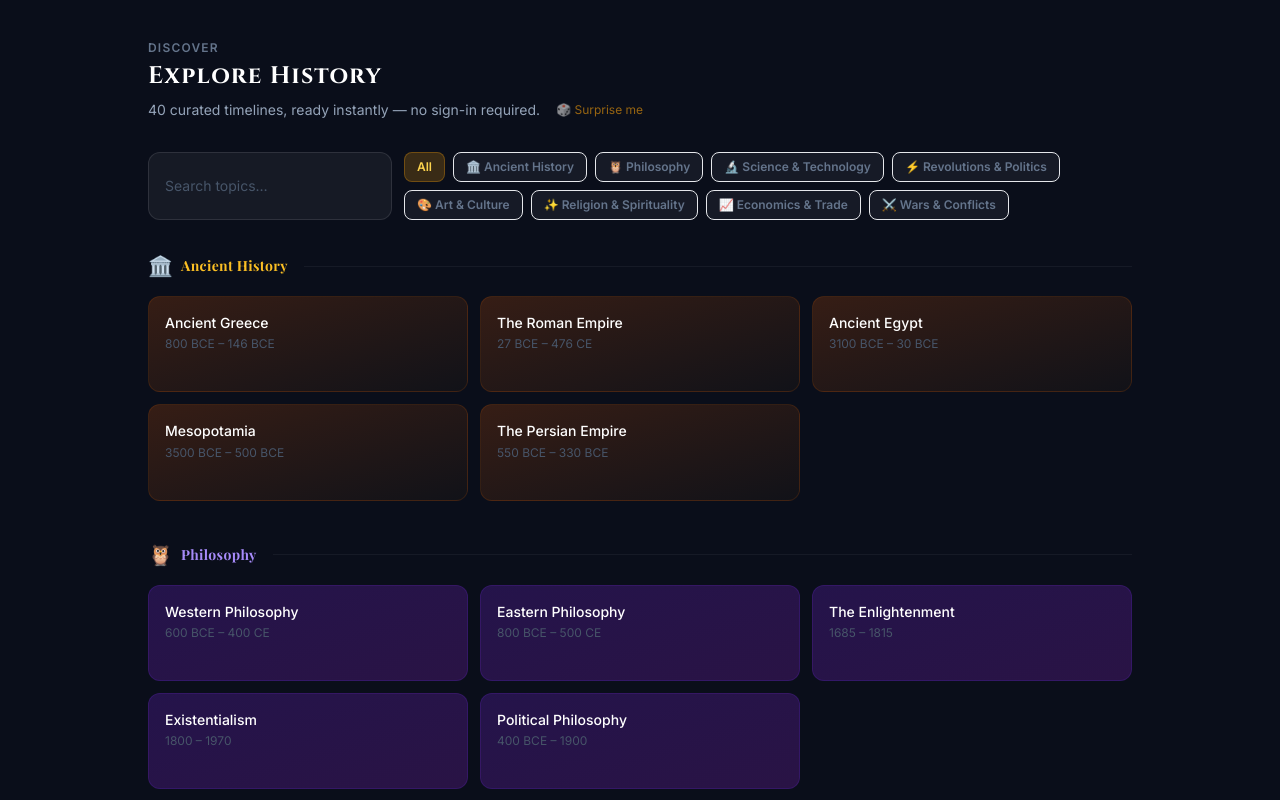
Test case: Discover › filters topics by search query
The image size is (1280, 800).
In the field with placeholder "Search topics…": (270, 186) [148, 152, 392, 220], type "Ancient Greece"
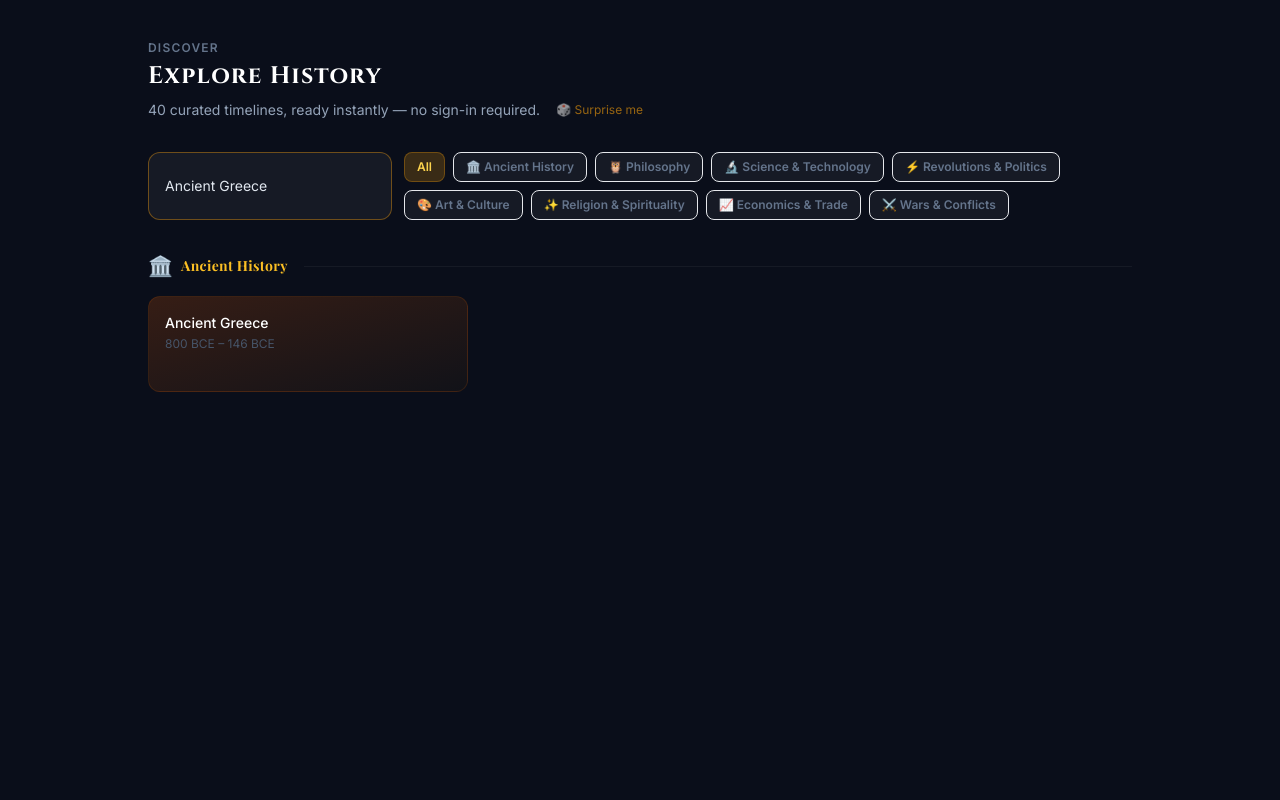
Expected: the text "Ancient Greece" is shown, [165, 314, 268, 331]
Expected: the button "Western Philosophy" is gone
